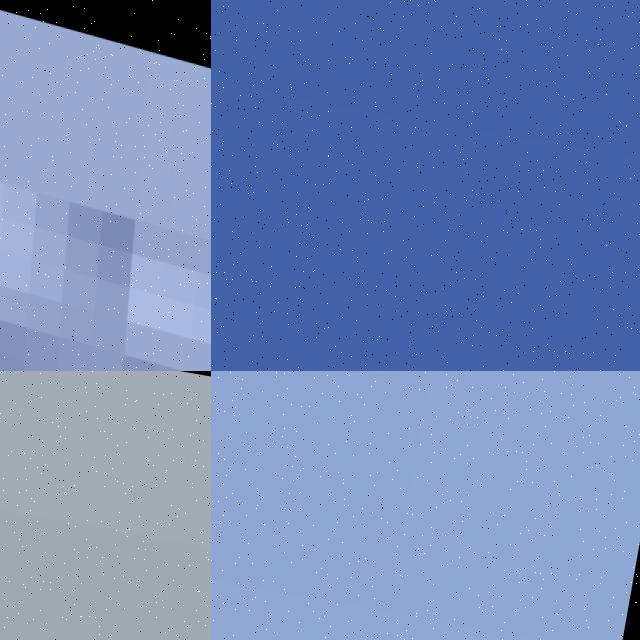drone: (0, 0, 211, 371)
